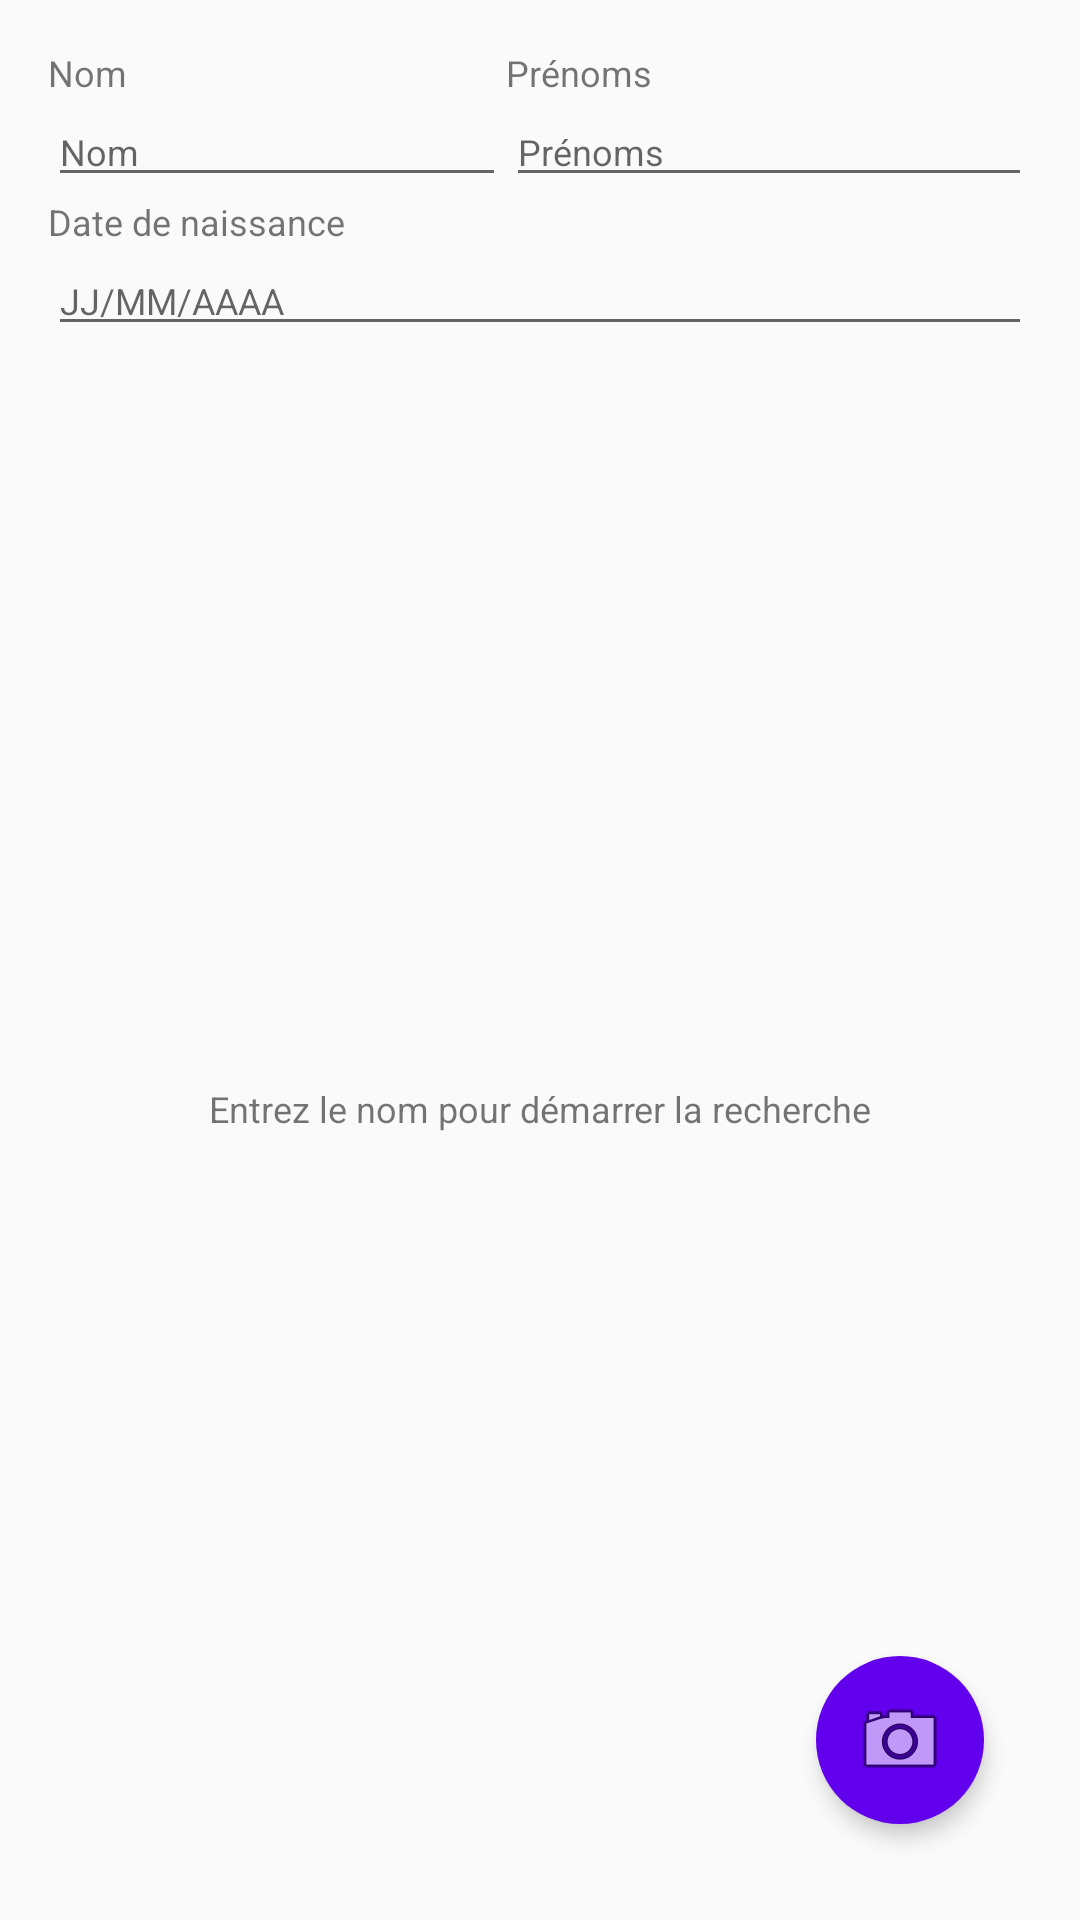

Icons on this 1080 x 1920 Android screen, each with the point to tap as (x=x, y=y):
Prendre une photo: (x=900, y=1740)
